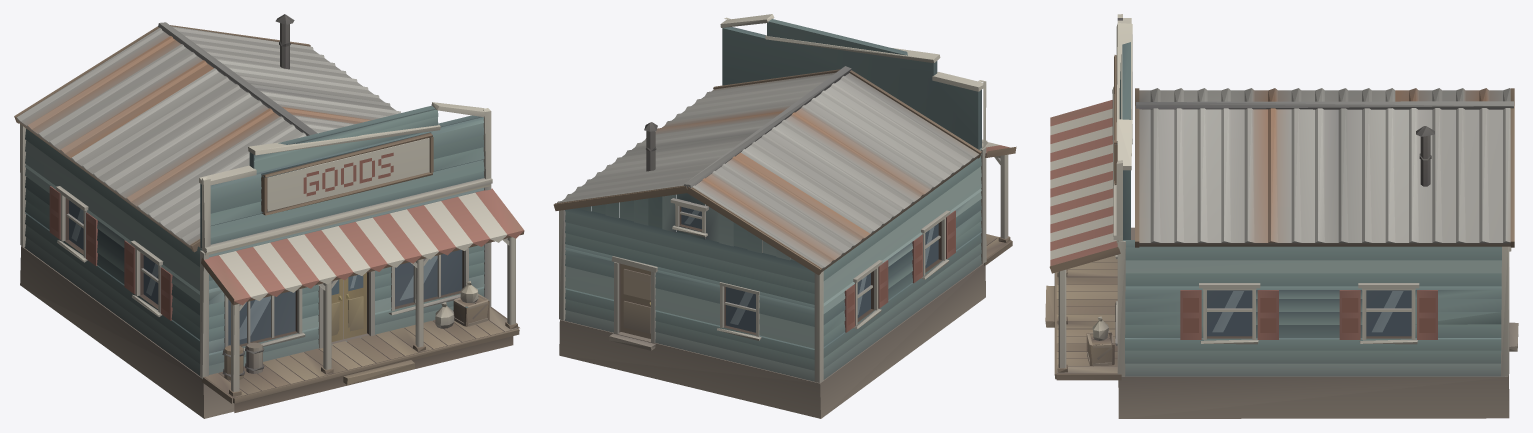
File: house_1.lod1.glb
3 views of the same model, side by side, from view 1: azimuth 30°, elevation 25°; view 2: azimuth 150°, elevation 25°; view 3: azimuth 270°, elevation 25° (orthographic). The views are drawn at different scales.
Size of the model in its own units: 8.67 by 7.18 by 11.29.
